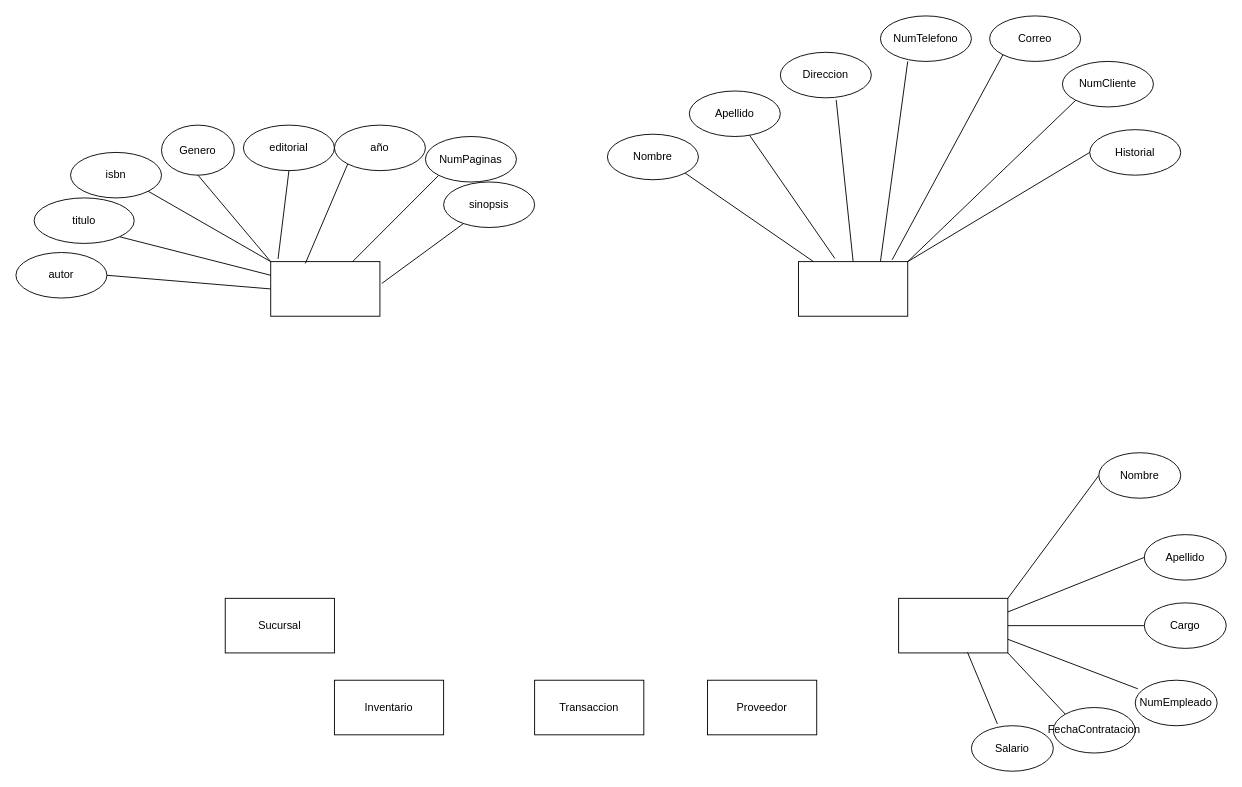
Some shapes in this 1242 by 787 pixel diagram are drawn without their labels. The centre of each missing label's shape, as x and y in pixels:
"Cliente" goes at point (853, 288).
"Empleado" goes at point (953, 625).
"libro" goes at point (325, 288).
